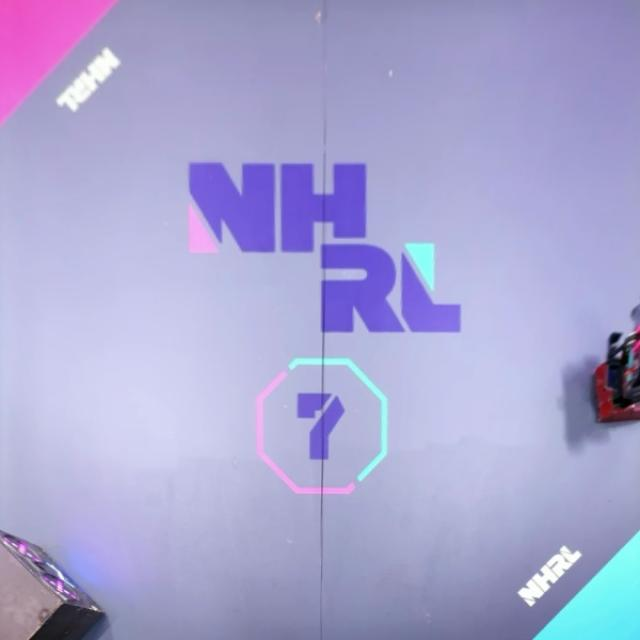housebot: (0, 525, 108, 640)
robot: (590, 328, 640, 424)
